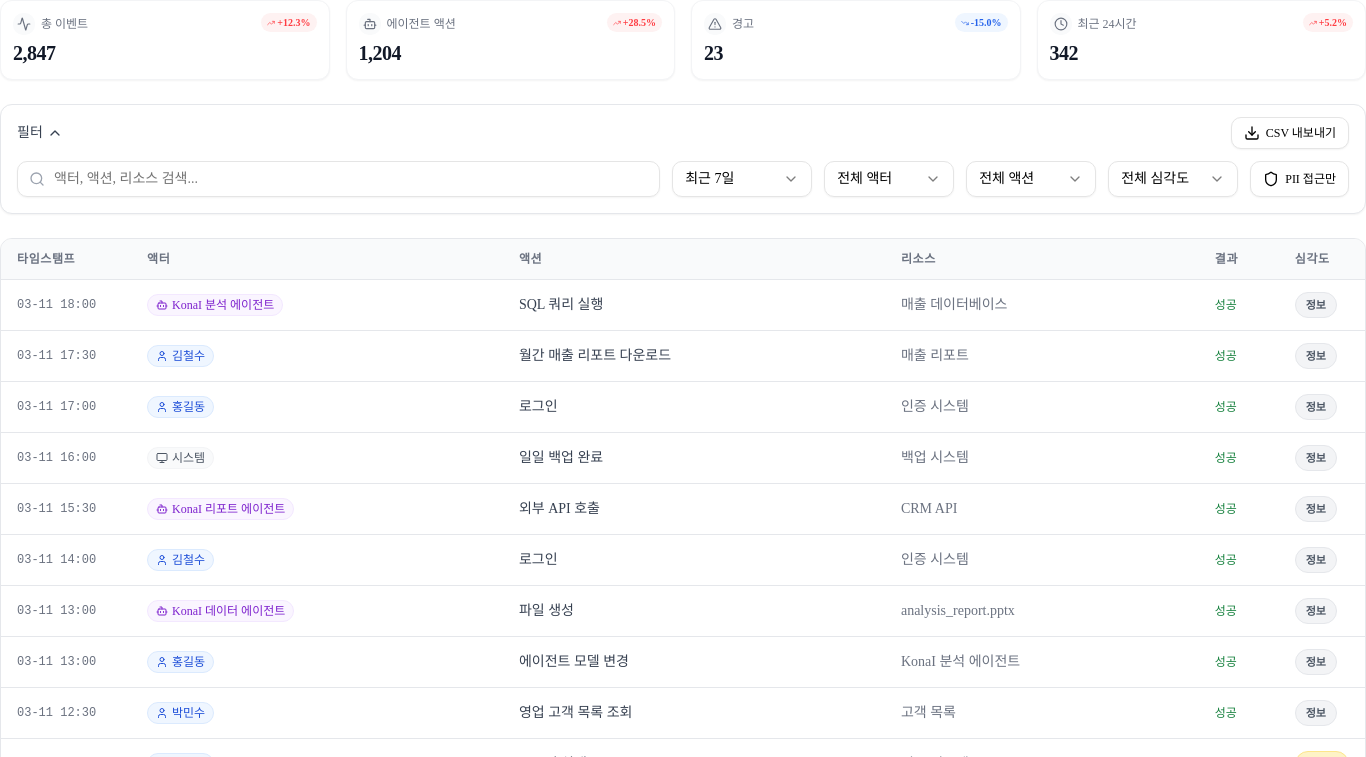
Test: AuditLogView — QA Edge Cases › Empty data after filtering › shows empty state when search + filters yield 0 results
The image size is (1366, 757).
# Type a search term guaranteed to match nothing
In the field with placeholder "액터, 액션, 리소스 검색...": x=339, y=179 [17, 161, 660, 197], type "zzz_nonexistent_term_999"
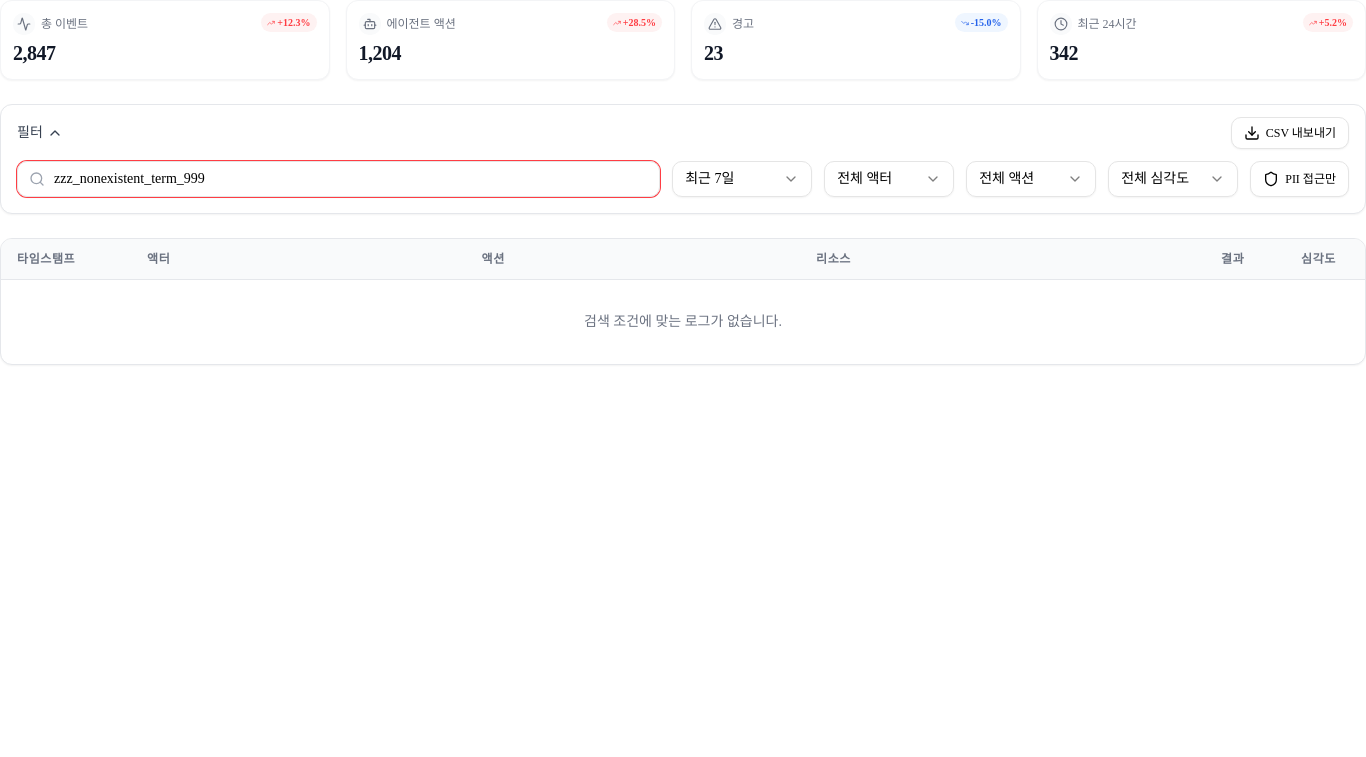
Expected: the text "검색 조건에 맞는 로그가 없습니다." is shown, [584, 314, 782, 329]
